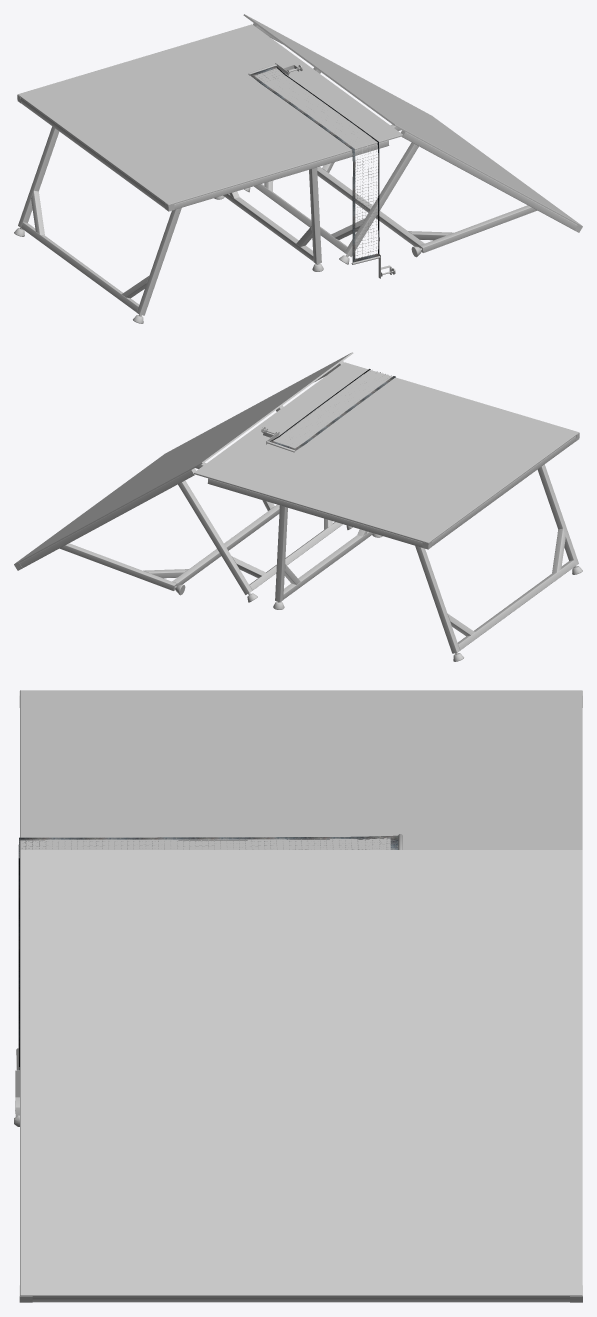
Rendered from PingPongTable01Old.FBX.
3 views of the same model, one above another, from view 1: azimuth 30°, elevation 25°; view 2: azimuth 150°, elevation 25°; view 3: azimuth 270°, elevation 25° (orthographic). The views are drawn at different scales.
Visible parts, largest first — view 1: PingPongTable01Old; view 2: PingPongTable01Old; view 3: PingPongTable01Old.
Boxes of the visible parts, x1,y1,x2,y2 form: PingPongTable01Old: [14, 14, 582, 323]; PingPongTable01Old: [14, 352, 582, 661]; PingPongTable01Old: [14, 690, 582, 1302].
Size of the model in its own units: 253 by 85.39 by 154.
